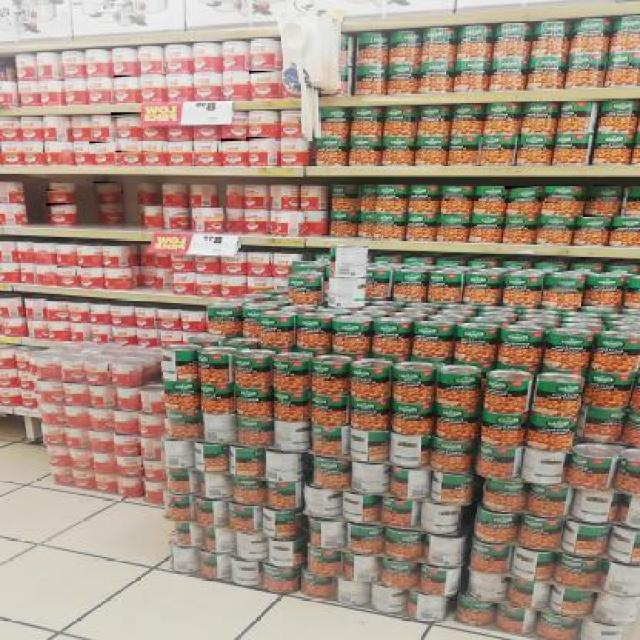Beans: (542, 275, 586, 293), (543, 186, 581, 204), (536, 216, 576, 233), (503, 186, 540, 204), (109, 112, 145, 128), (442, 186, 474, 202), (275, 137, 311, 151), (245, 138, 276, 154), (114, 138, 145, 154), (592, 186, 620, 203), (85, 75, 114, 91), (582, 215, 611, 231), (218, 139, 250, 153), (17, 138, 45, 154), (441, 214, 469, 230), (248, 70, 279, 84), (92, 182, 123, 196), (193, 208, 229, 220), (44, 203, 78, 215), (110, 76, 139, 90), (113, 433, 141, 447), (196, 138, 219, 154), (80, 360, 109, 372), (137, 76, 161, 90), (166, 140, 194, 152), (87, 142, 111, 156), (246, 252, 270, 266), (140, 140, 163, 154), (99, 203, 125, 215), (154, 311, 180, 322), (44, 183, 75, 192), (79, 266, 102, 278), (68, 303, 91, 314), (167, 273, 195, 282), (278, 114, 300, 125), (55, 266, 77, 277), (133, 309, 153, 320)
